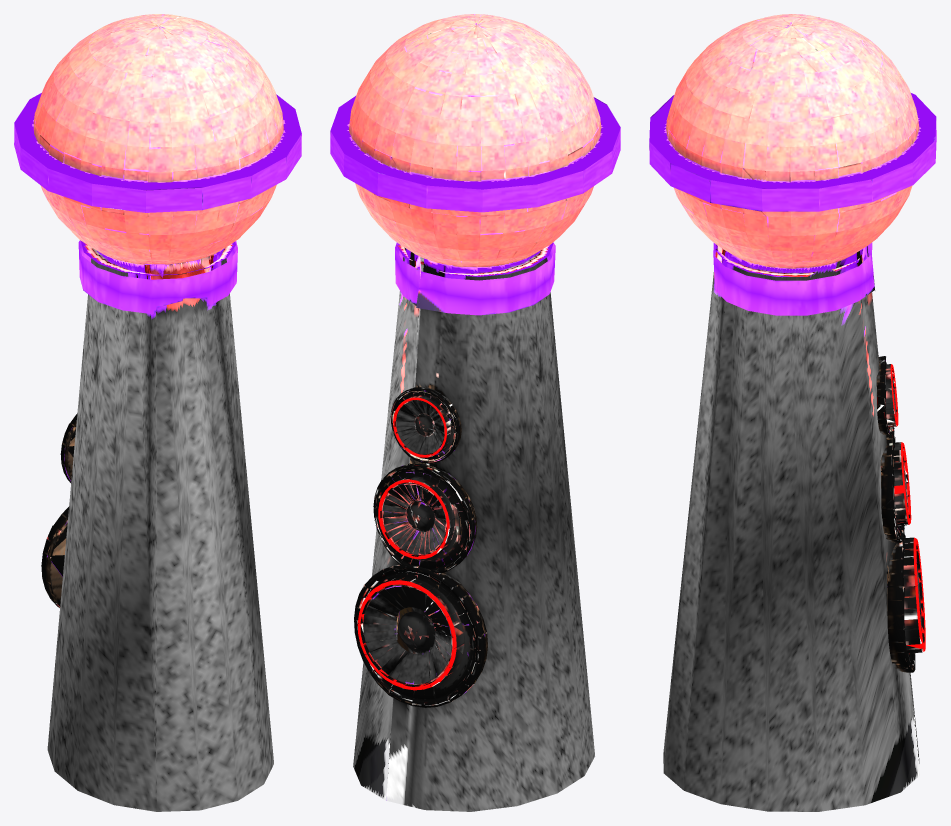
Rendered from micro-enceinte.glb.
3 renders of one model, left to right at view 1: azimuth 30°, elevation 25°; view 2: azimuth 150°, elevation 25°; view 3: azimuth 270°, elevation 25°, orthographic.
Visible parts, largest first — view 1: Micro.002; view 2: Micro.002; view 3: Micro.002.
Boxes of the visible parts, x1,y1,x2,y2 form: Micro.002: [14, 14, 301, 811]; Micro.002: [330, 14, 620, 811]; Micro.002: [649, 14, 936, 811].
Size of the model in its own units: 1.38 by 3.94 by 1.38.
Materials: 1 (1 with a texture image).
